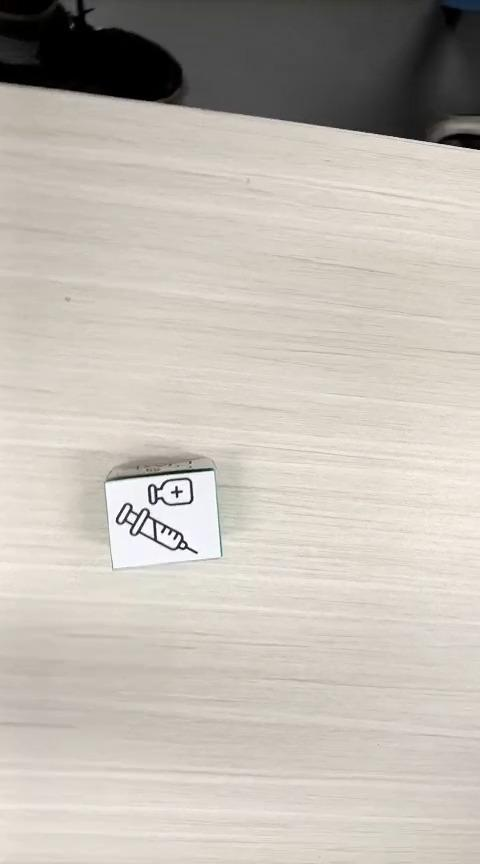antiseptic cream: (102, 452, 223, 571)
